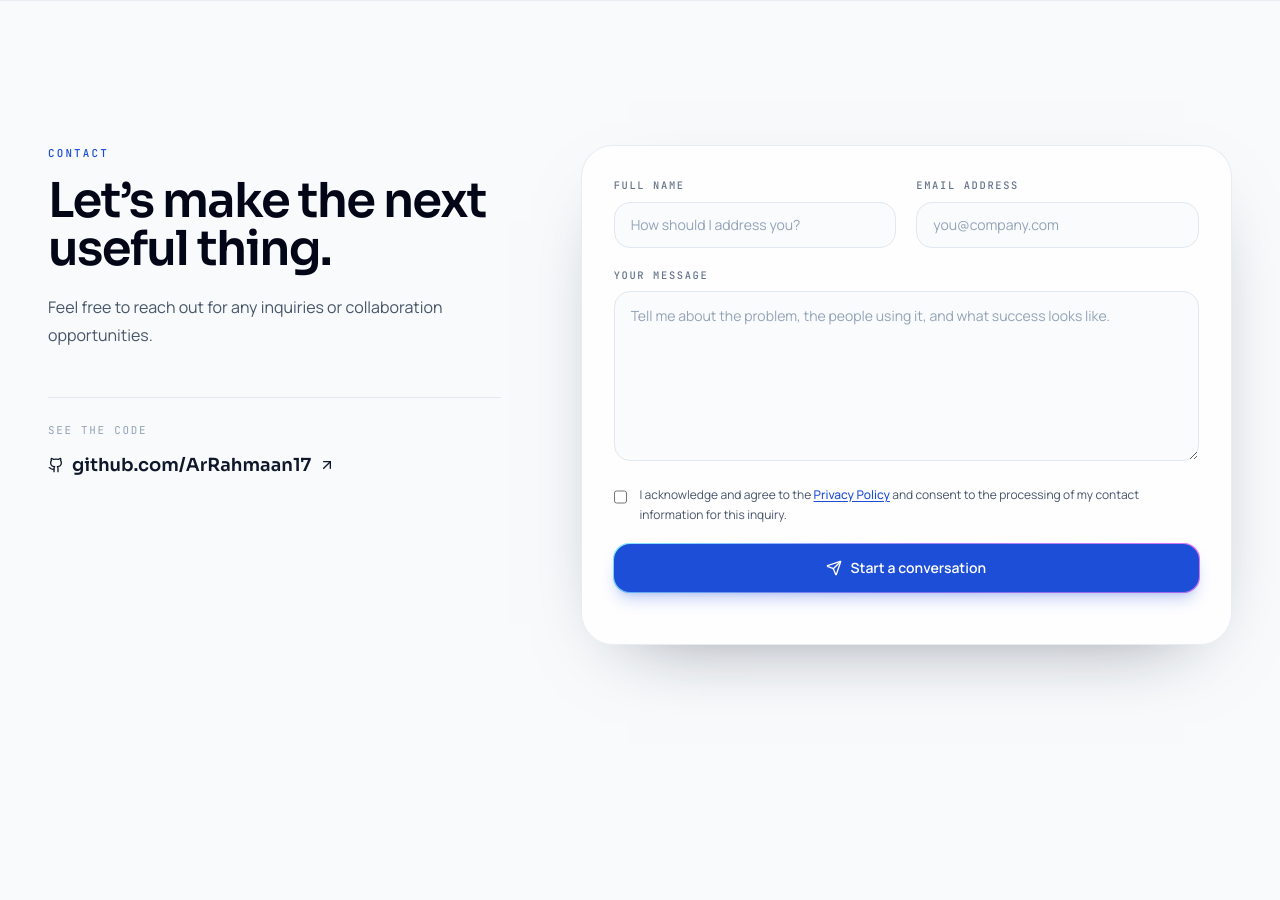
Scenario: Contact Form Accessibility & Consent › shows validation error when submitted without checking consent
Fill name, email, message
Type "John Doe" into the field labelled "Full Name" at (755, 225), box [614,202,896,248]
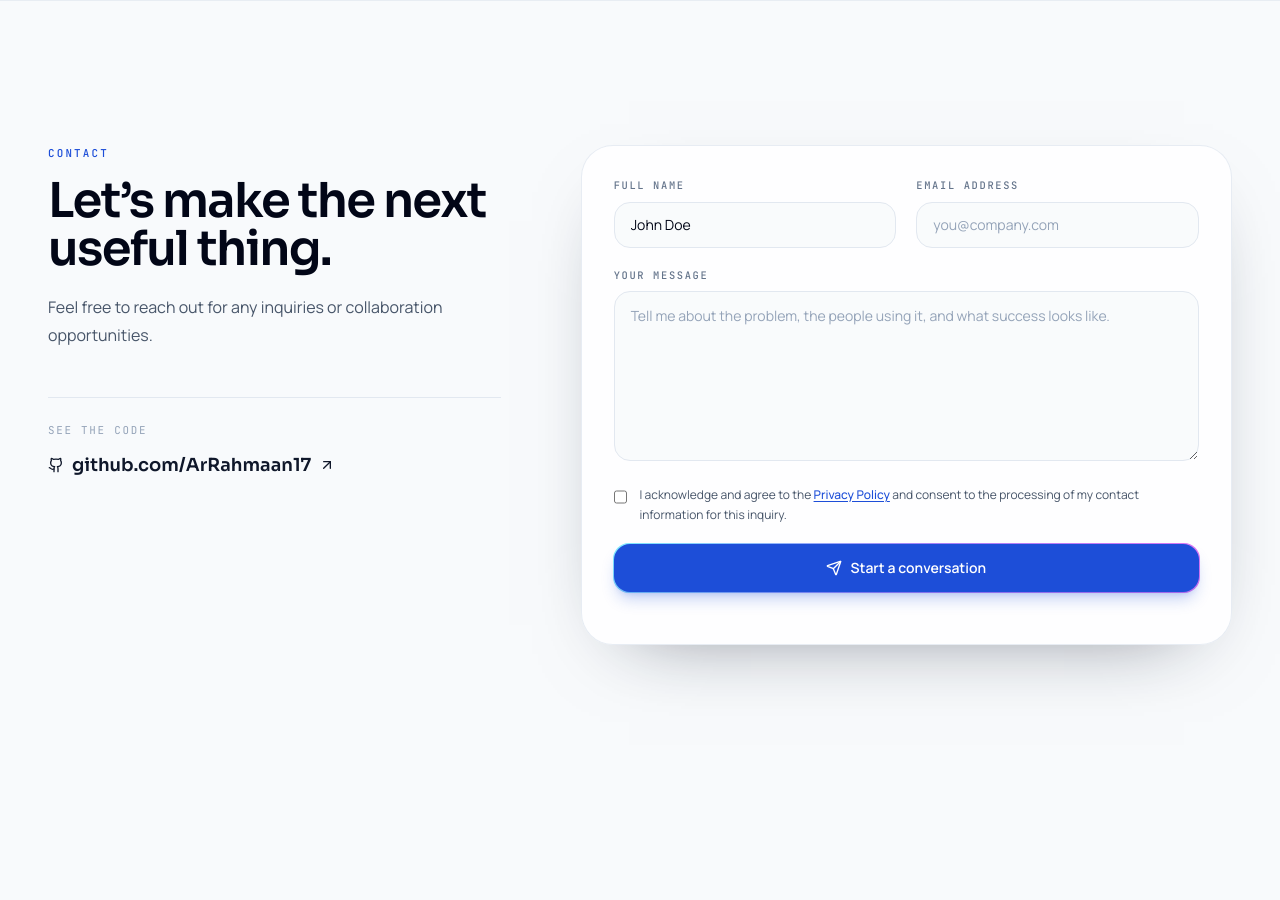
Type "john@example.com" into the field labelled "Email Address" at (1058, 225), box [916,202,1199,248]
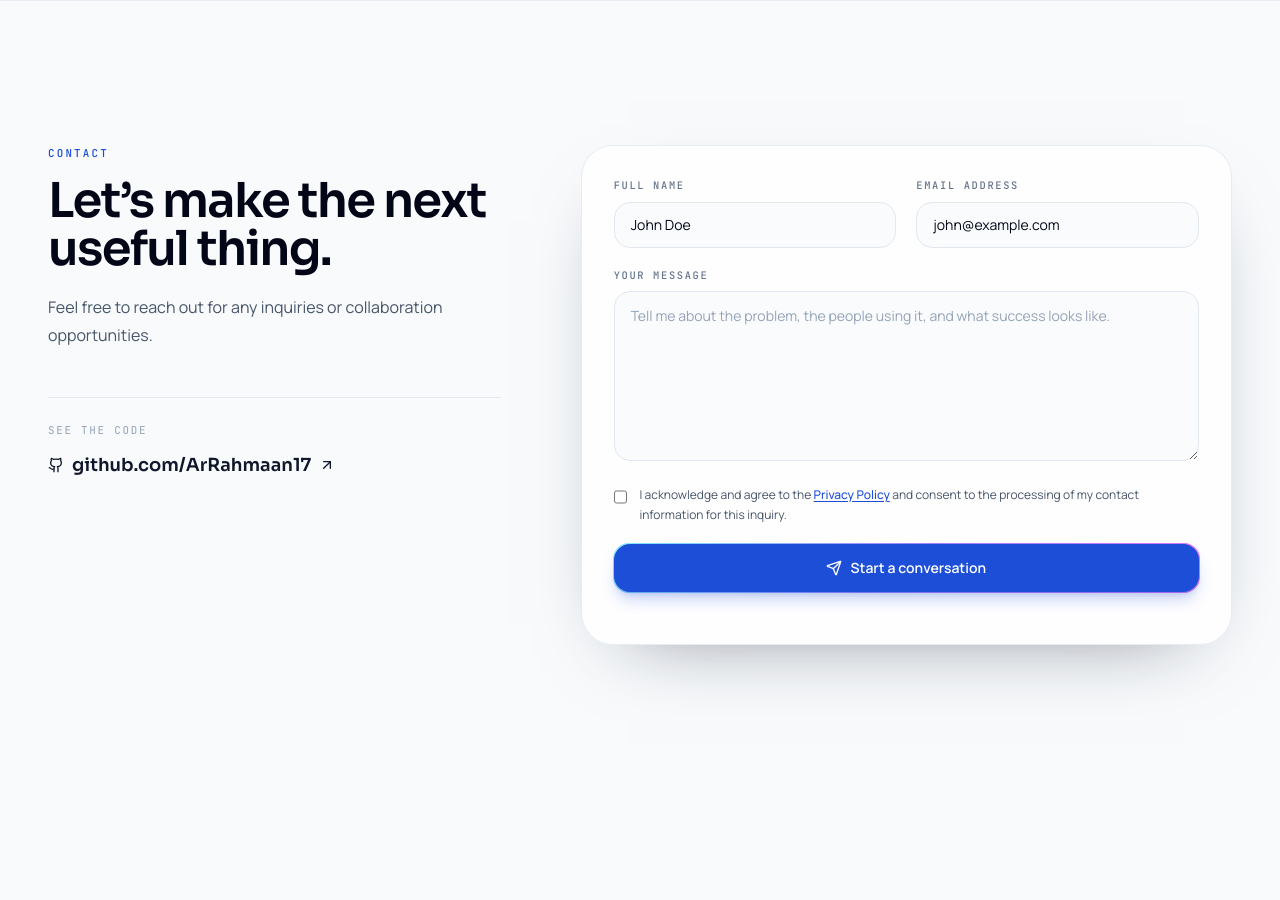
Replace the text in the text box labelled "Your Message" with "Hello, I would like to discuss a software project." at (906, 376), box [614,291,1199,461]
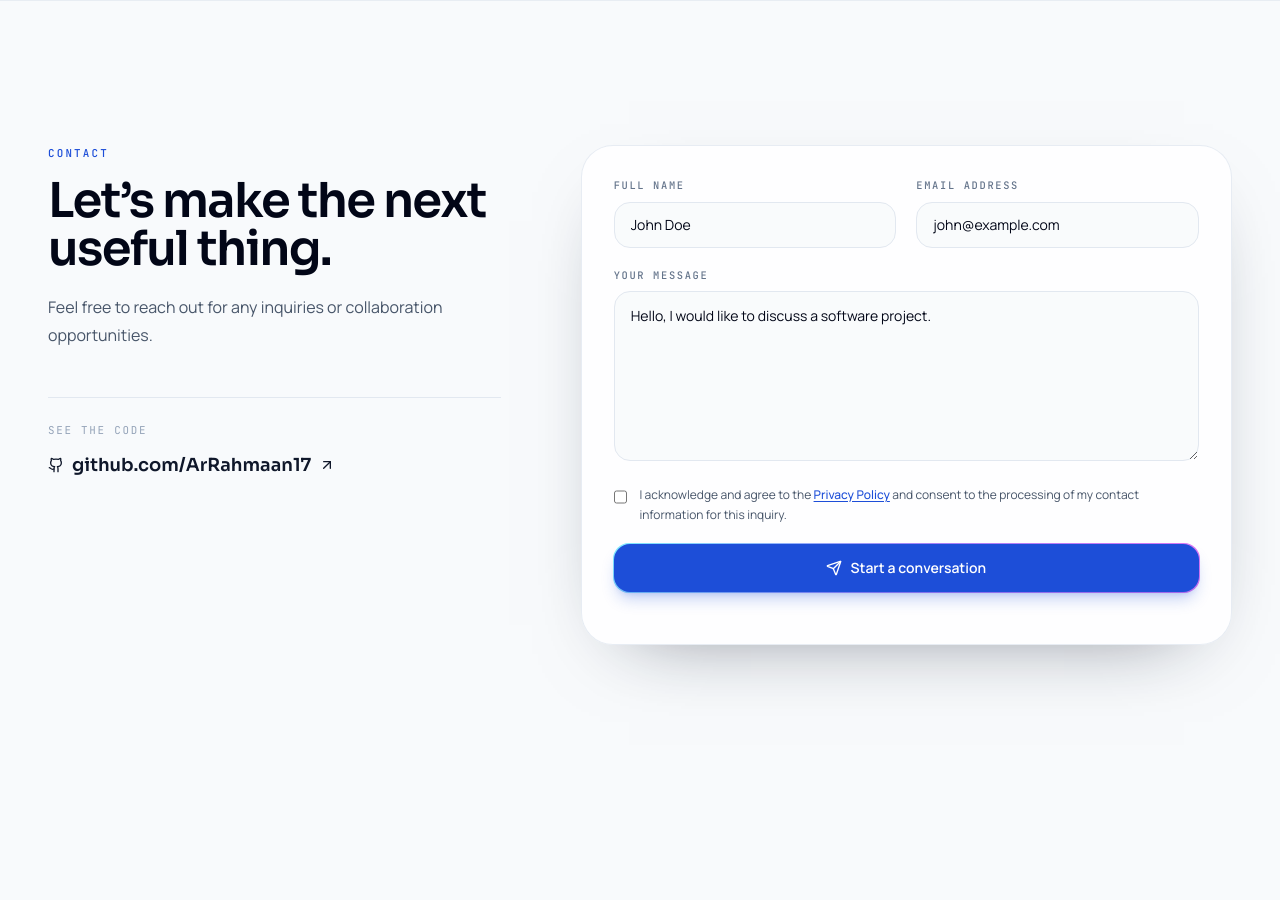
Click the button "Start a conversation" at (906, 568), box [614,544,1199,592]
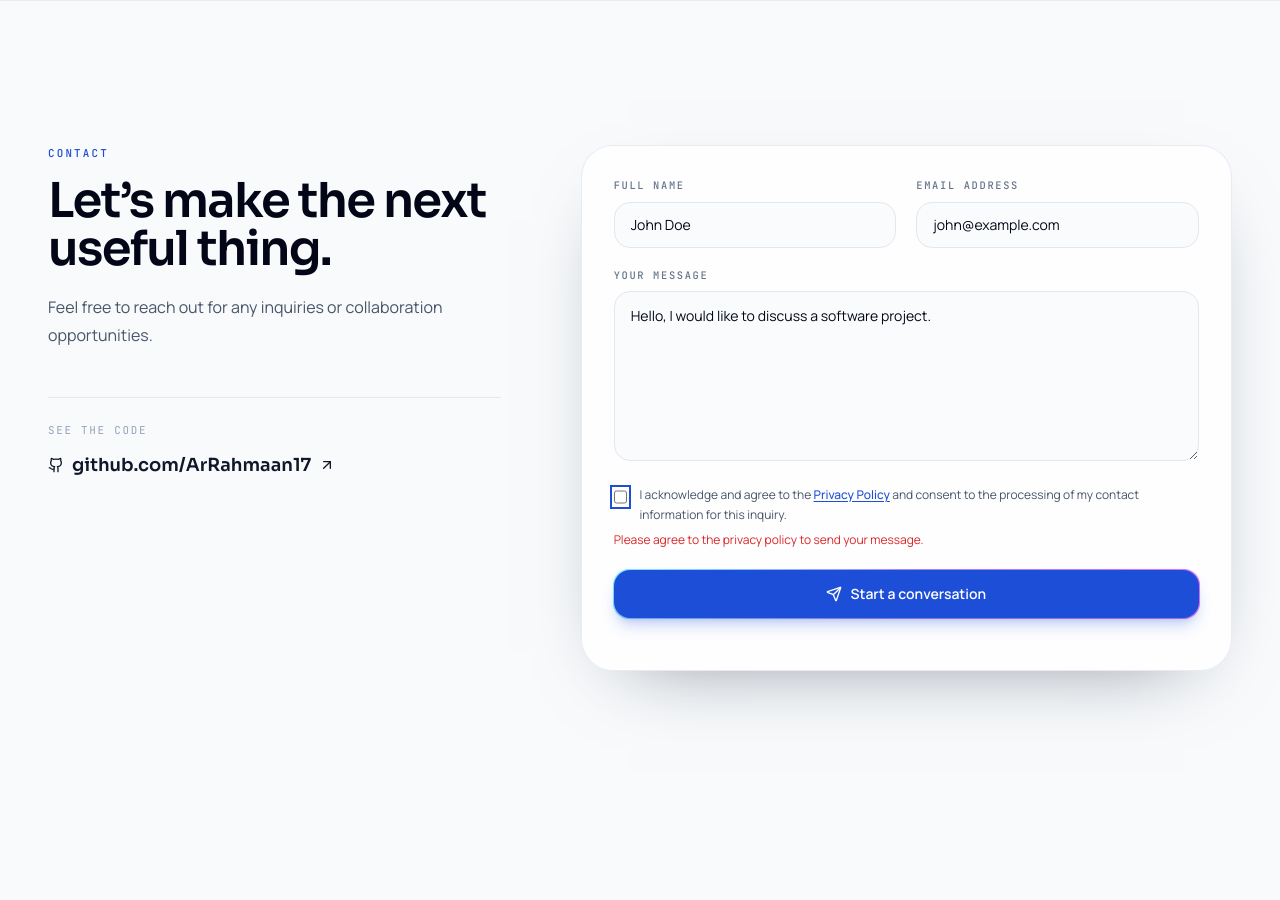
Check: the text "Please agree to the privacy policy to send your message." is shown, box [614,531,924,548]
